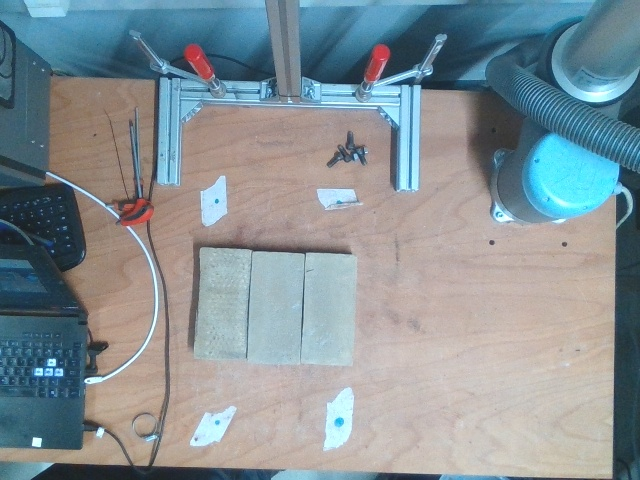brick: (247, 251, 302, 364), (302, 253, 354, 368), (197, 250, 248, 359)
